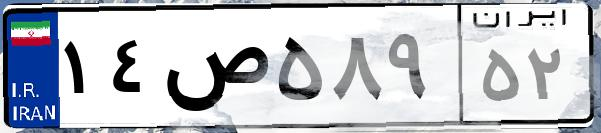1: (57, 26, 110, 100)
2: (525, 38, 570, 115)
4: (110, 28, 158, 98)
5: (270, 28, 330, 110), (475, 38, 525, 113)
8: (330, 28, 385, 110)
9: (385, 28, 445, 110)
ص: (158, 20, 270, 120)
